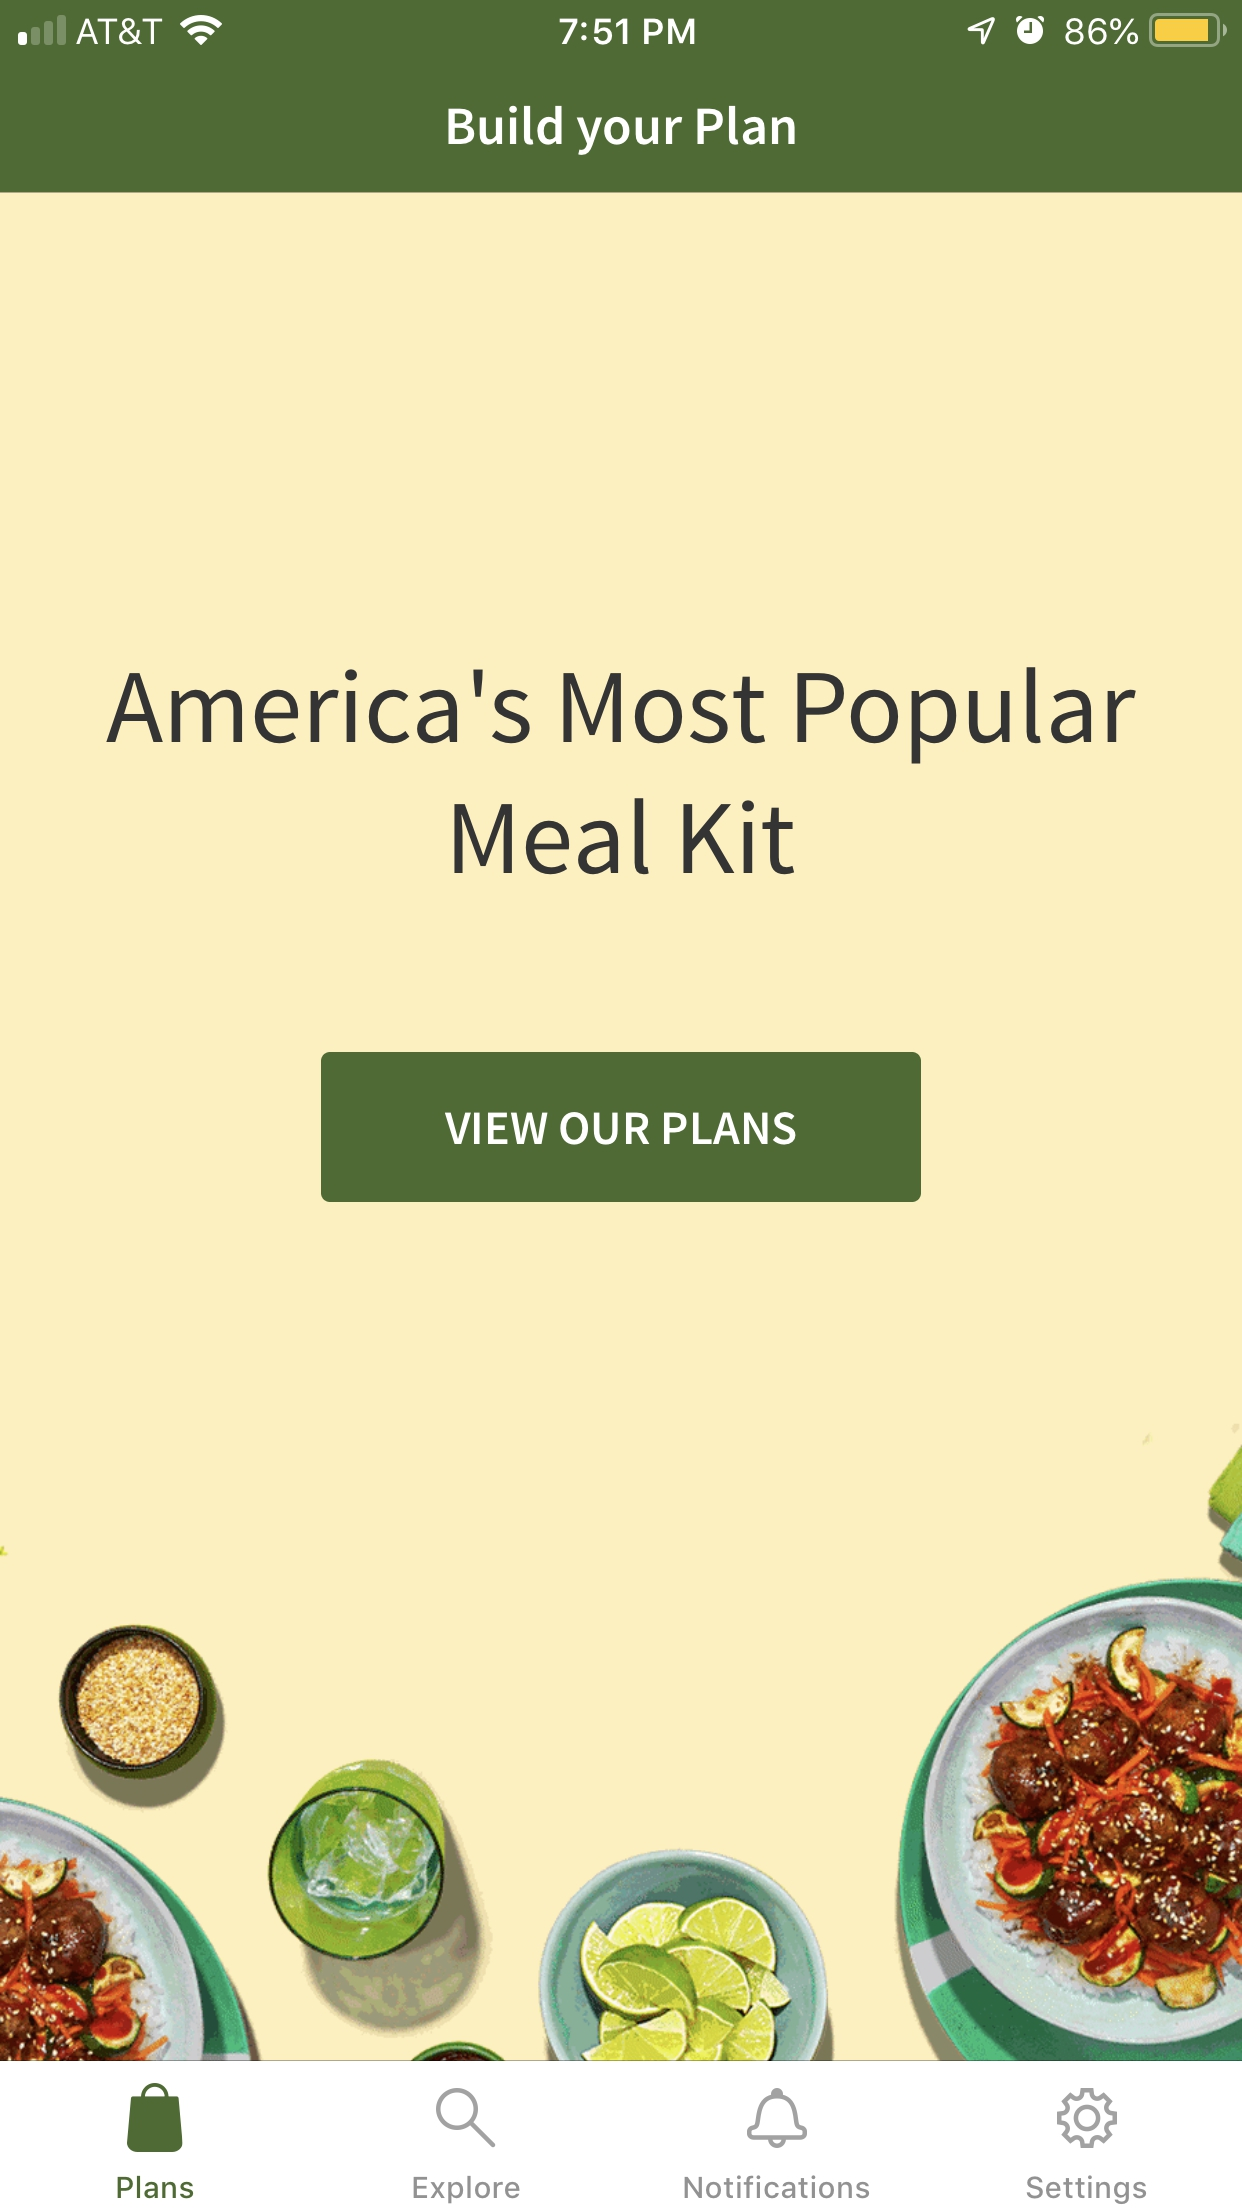Icon: (127, 2082, 183, 2153), (437, 2087, 497, 2147), (748, 2088, 808, 2149), (1057, 2088, 1118, 2149)
Image: (2, 1442, 1242, 2062)
Text: (108, 667, 1137, 877), (447, 105, 796, 158), (684, 2175, 870, 2199), (1027, 2175, 1146, 2205), (412, 2175, 522, 2203), (118, 2175, 196, 2199)
TextButton: (321, 1052, 922, 1203)
UpperTaskBar: (2, 2, 1242, 49)
